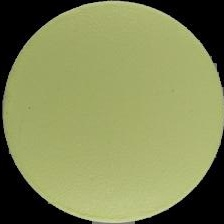50268-698: (0, 0, 224, 224)
